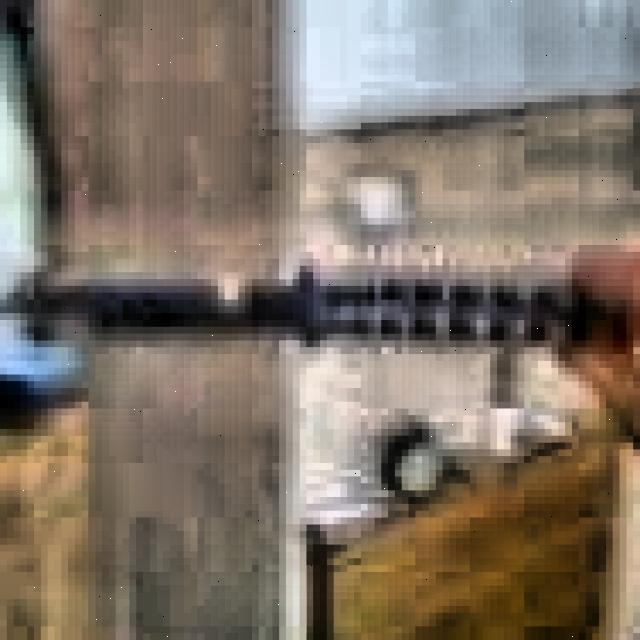knife: (98, 267, 606, 348)
